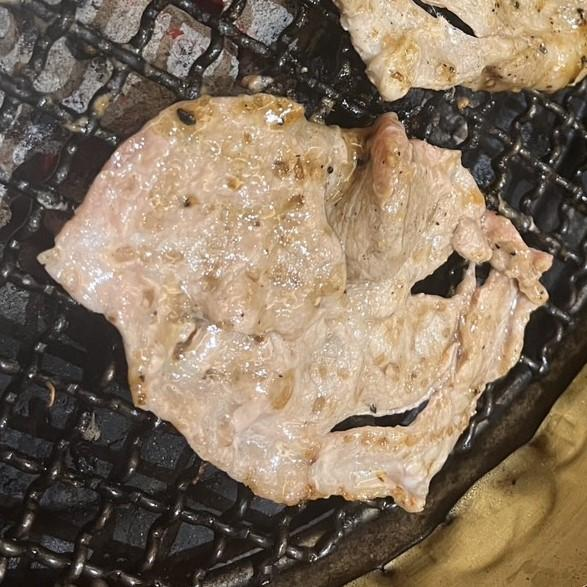Overcooked: (332, 0, 586, 99)
Well-Cooked: (37, 94, 553, 513)
